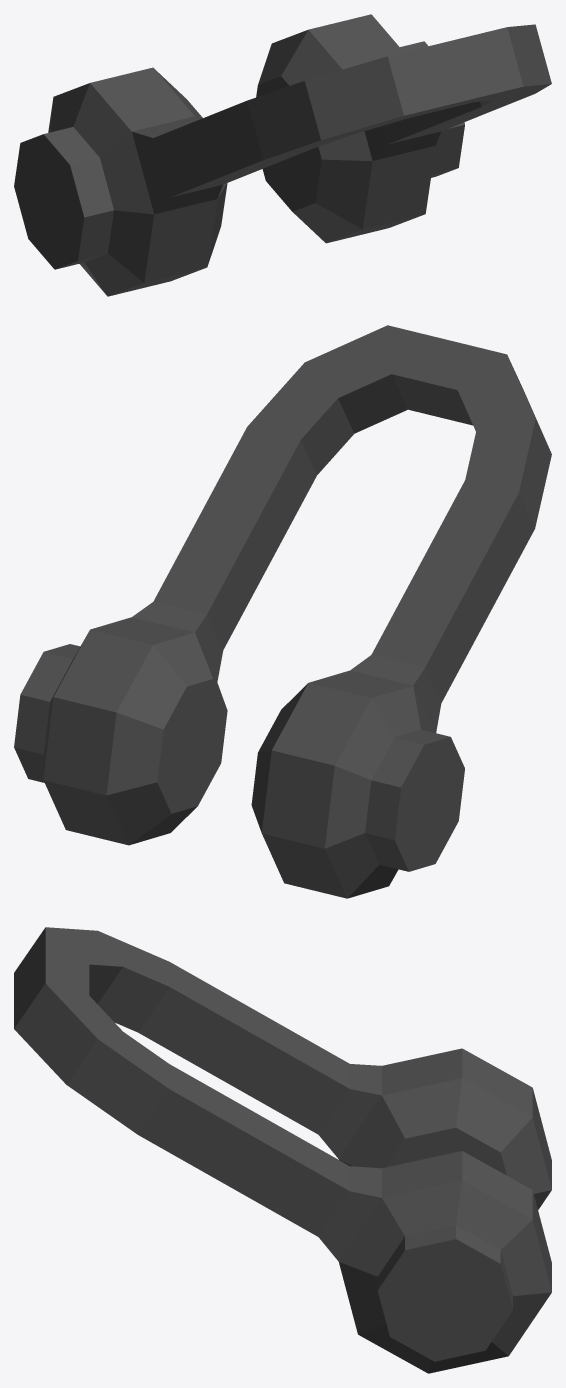
The model's file is SM_Veh_Crane_01_HookLatch.obj.
3 views of the same model, one above another, from view 1: azimuth 30°, elevation 25°; view 2: azimuth 150°, elevation 25°; view 3: azimuth 270°, elevation 25° (orthographic). The views are drawn at different scales.
Parts seen in each view (by area): view 1: SM_Veh_Crane_01_HookLatch_0; view 2: SM_Veh_Crane_01_HookLatch_0; view 3: SM_Veh_Crane_01_HookLatch_0.
Boxes of the visible parts, left/top/right/bottom form: SM_Veh_Crane_01_HookLatch_0: left=14, top=14, right=551, bottom=296; SM_Veh_Crane_01_HookLatch_0: left=14, top=325, right=551, bottom=898; SM_Veh_Crane_01_HookLatch_0: left=14, top=927, right=551, bottom=1373.
Bounding box in the file's own units: 0.2375 × 0.2183 × 0.302.
Materials: 1 (1 with a texture image).
